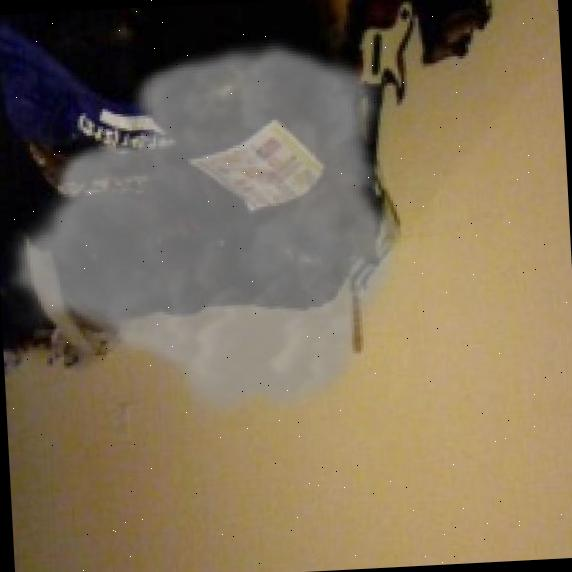smoke: (0, 31, 410, 437)
